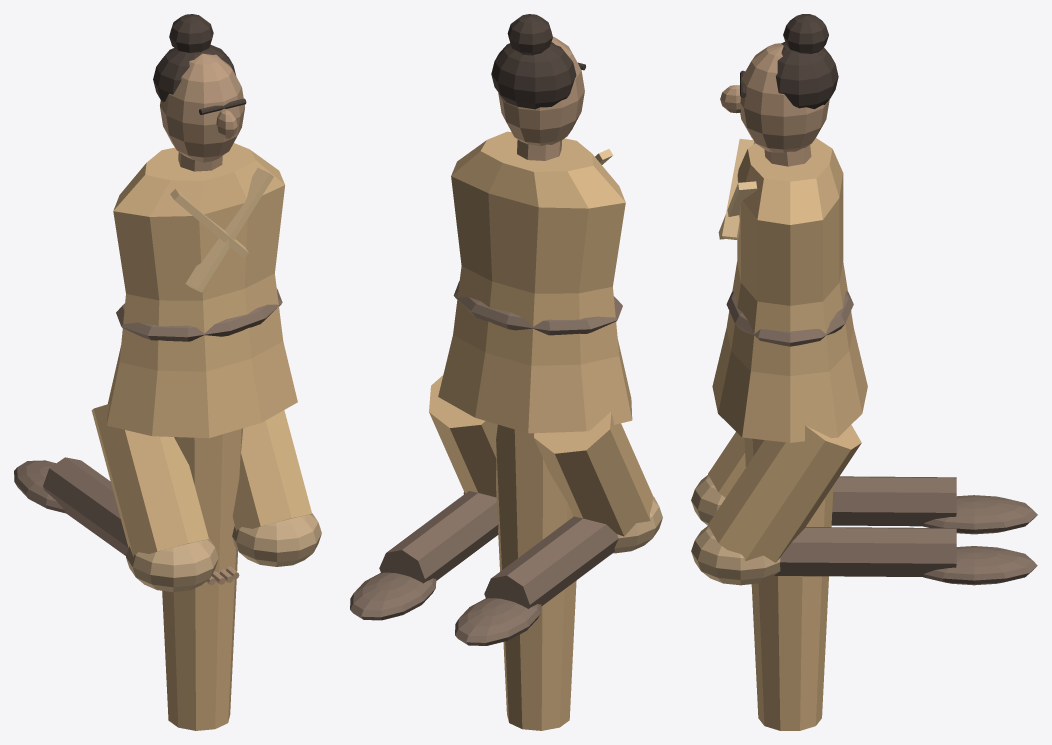
The model's file is he-placeholder.glb.
The picture shows the model from 3 angles, left to right: view 1: azimuth 30°, elevation 25°; view 2: azimuth 150°, elevation 25°; view 3: azimuth 270°, elevation 25°; orthographic projection.
Visible parts, largest first — view 1: torso, upper-arm-r, thigh-l, thigh-r, head, shin-l, knee-l, knee-r, sash, collar-r, hair-cap, sandal-l (+2 smaller); view 2: torso, upper-arm-r, thigh-l, shin-l, shin-r, thigh-r, hair-cap, head, sandal-r, sandal-l, sash, topknot (+2 smaller); view 3: torso, upper-arm-r, thigh-r, shin-r, shin-l, head, hair-cap, sandal-r, sandal-l, knee-r, sash, topknot (+5 smaller).
Part boxes in pixels (left/top/right/bottom): torso: left=107, top=143, right=297, bottom=438; upper-arm-r: left=162, top=428, right=243, bottom=730; thigh-l: left=91, top=403, right=208, bottom=556; thigh-r: left=232, top=410, right=311, bottom=531; head: left=160, top=53, right=244, bottom=162; shin-l: left=43, top=457, right=128, bottom=555; knee-l: left=126, top=538, right=218, bottom=592; knee-r: left=232, top=513, right=321, bottom=566; sash: left=116, top=288, right=282, bottom=341; collar-r: left=185, top=168, right=273, bottom=292; hair-cap: left=153, top=44, right=235, bottom=102; sandal-l: left=14, top=460, right=65, bottom=513; torso: left=438, top=131, right=632, bottom=433; upper-arm-r: left=496, top=424, right=576, bottom=730; thigh-l: left=534, top=411, right=652, bottom=536; shin-l: left=484, top=516, right=618, bottom=608; shin-r: left=379, top=491, right=498, bottom=583; thigh-r: left=429, top=375, right=497, bottom=497; hair-cap: left=491, top=42, right=576, bottom=109; head: left=498, top=36, right=584, bottom=146; sandal-r: left=350, top=572, right=436, bottom=620; sandal-l: left=455, top=598, right=541, bottom=645; sash: left=453, top=281, right=622, bottom=335; topknot: left=507, top=14, right=552, bottom=55; torso: left=712, top=138, right=867, bottom=442; upper-arm-r: left=744, top=437, right=833, bottom=730; thigh-r: left=708, top=424, right=861, bottom=562; shin-r: left=774, top=527, right=956, bottom=576; shin-l: left=831, top=476, right=956, bottom=526; head: left=740, top=43, right=829, bottom=152; hair-cap: left=775, top=42, right=838, bottom=109; sandal-r: left=923, top=546, right=1037, bottom=585; sandal-l: left=923, top=495, right=1037, bottom=534; knee-r: left=691, top=526, right=780, bottom=585; sash: left=726, top=291, right=853, bottom=346; topknot: left=783, top=14, right=828, bottom=53.
Size of the model in its own units: 0.6045 by 2.19 by 0.98.
